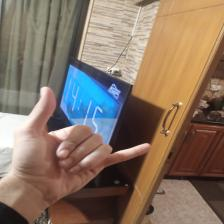five: (18, 86, 154, 190)
